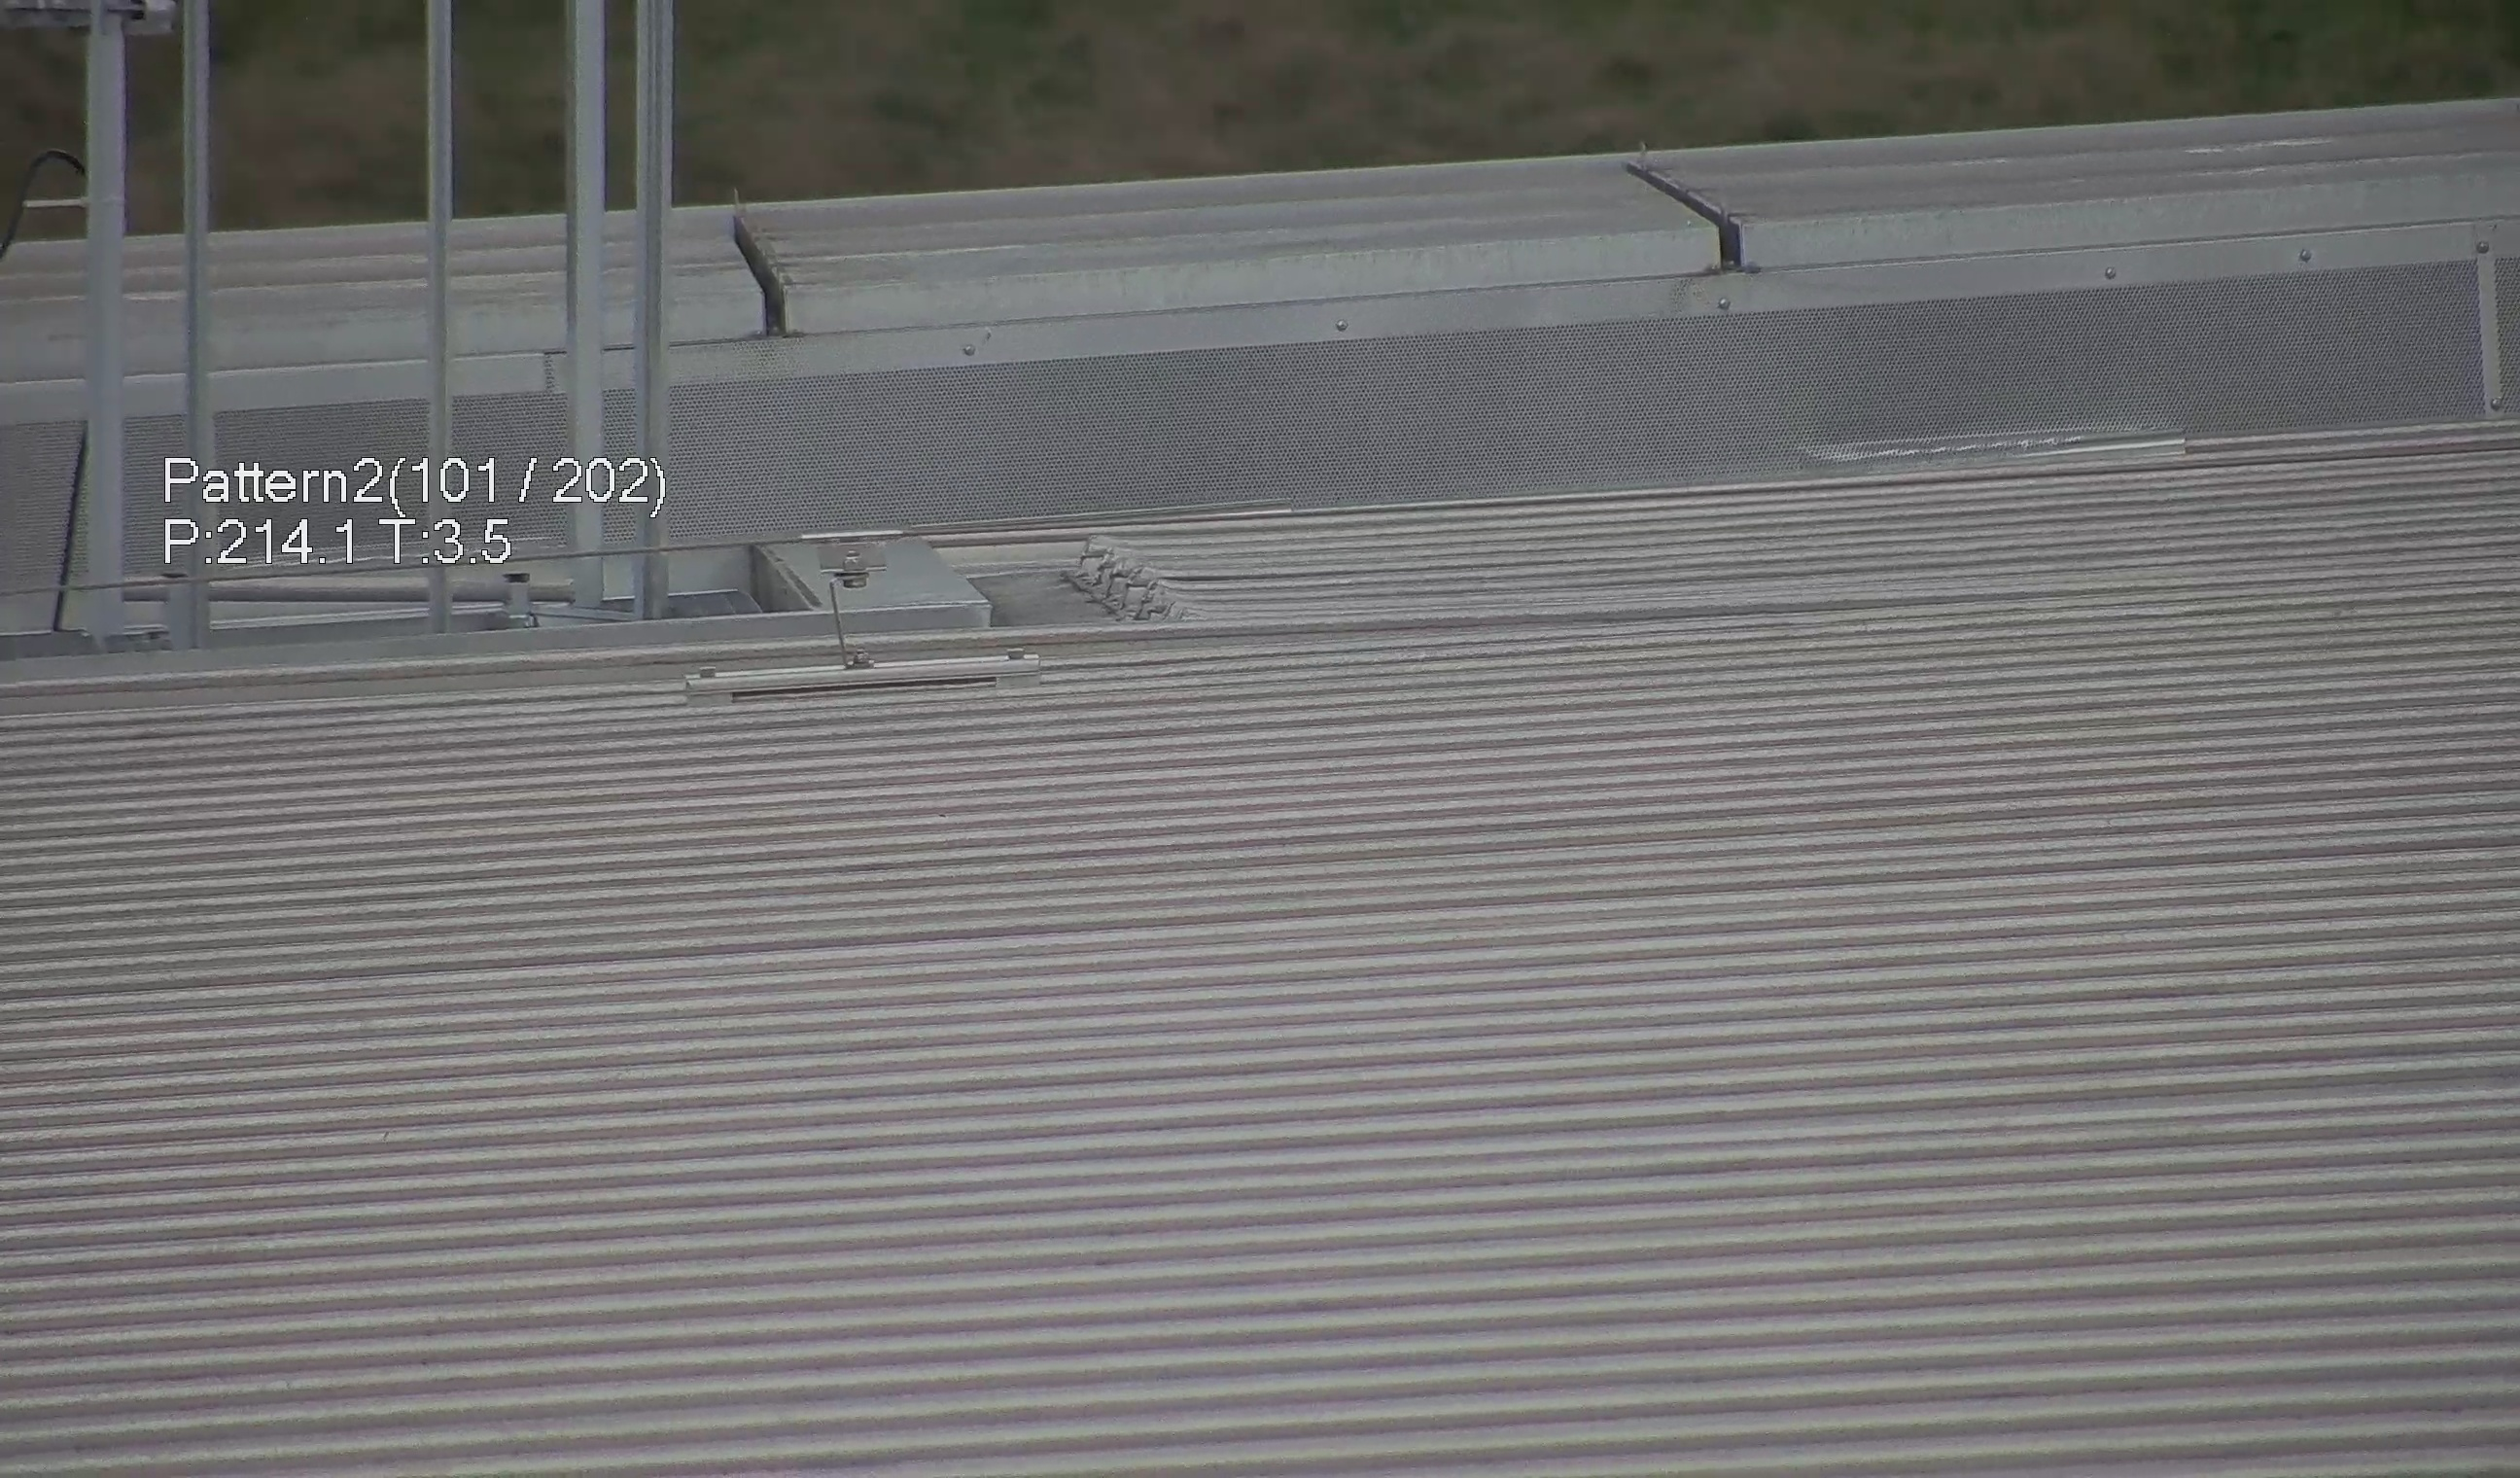Other: (703, 188, 798, 340)
